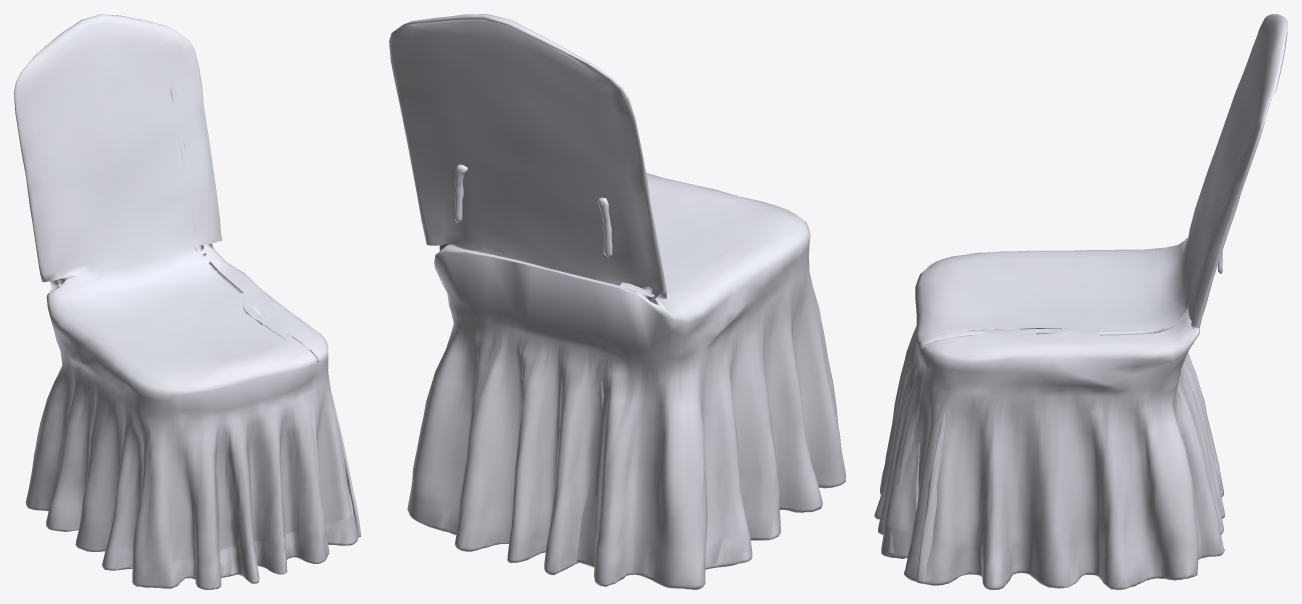
The model's file is Spandex_Banquet_Chair_Frill_Bottom_0406025521_texture.glb.
3 views of the same model, side by side, from view 1: azimuth 30°, elevation 25°; view 2: azimuth 150°, elevation 25°; view 3: azimuth 270°, elevation 25° (orthographic). The views are drawn at different scales.
Visible parts, largest first — view 1: Mesh_0.002; view 2: Mesh_0.002; view 3: Mesh_0.002.
Part boxes in pixels (x1,y1,x2,y2): Mesh_0.002: [14, 14, 360, 589]; Mesh_0.002: [389, 14, 845, 589]; Mesh_0.002: [874, 14, 1287, 589].
Bounding box in the file's own units: 0.4912 × 0.8636 × 0.6437.
Materials: 1 (1 with a texture image).
